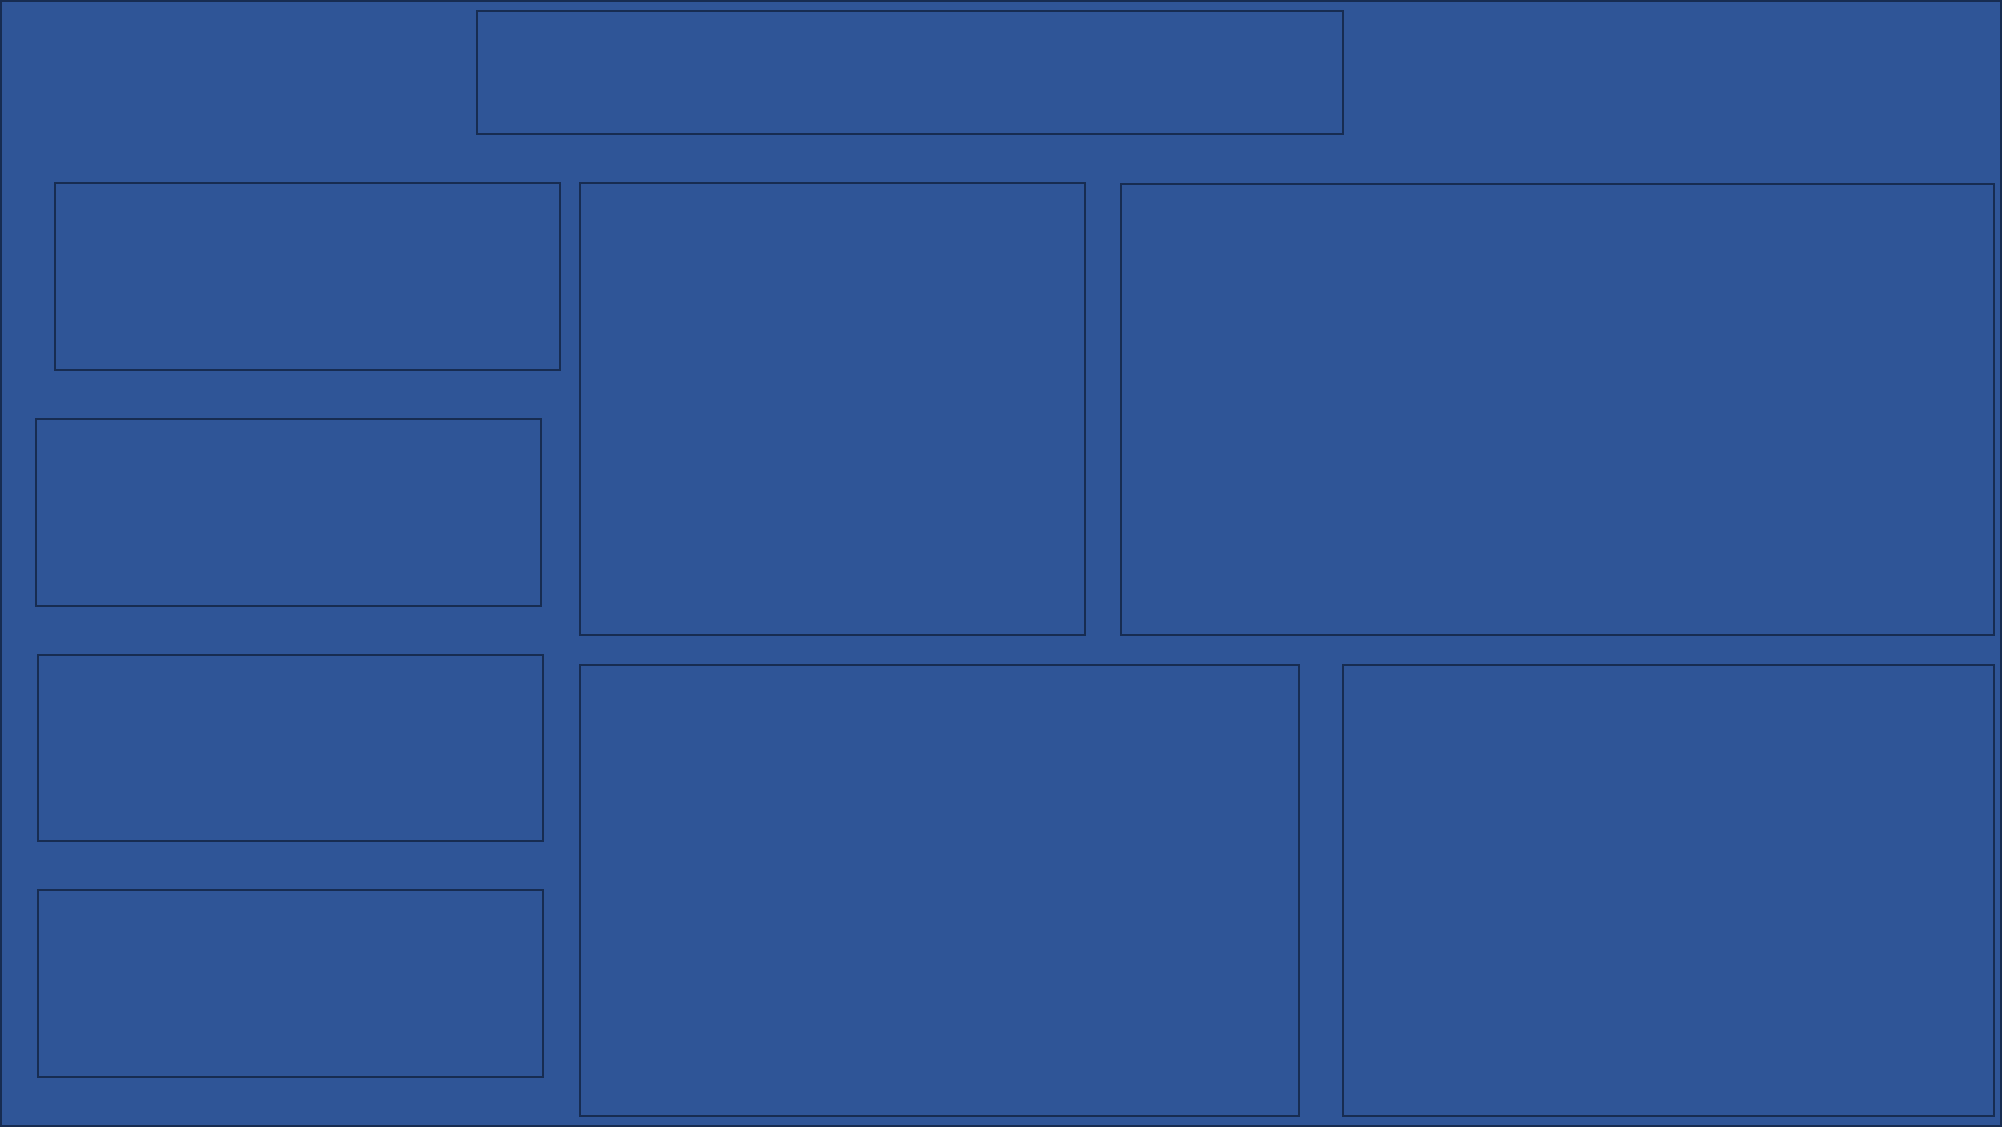

This screenshot's page, from the dashboard's own definition file:
{"tool":"powerbi","page":{"name":"Page 1","canvas":[1280,720],"ordinal":0},"visuals":[{"type":"pieChart","title":"Order Status in Weekday & Weekend","fields":{"Category":["olist_orders_dataset.Weekdays/Weekend"],"Y":["CountNonNull(olist_orders_dataset.order_status)"]},"box":[372.7,117.2,326.3,289.9],"z":0},{"type":"columnChart","title":"Types of Payment in Review score 5","fields":{"Y":["CountNonNull(olist_order_items_dataset.order_id)"],"Series":["olist_order_reviews_dataset.review_score"],"Category":["olist_order_payments_dataset.payment_type"]},"box":[372.7,423.2,457.6,288.9],"z":1000},{"type":"card","title":"Average of shipping Days for Pet_Shop","fields":{"Values":["Avg(olist_orders_dataset.Shipping Days)"]},"box":[23.2,270.7,318.2,116.2],"z":2000},{"type":"clusteredColumnChart","title":"Average of Payment Value & Price Sao Paulo","fields":{"Y":["Avg(olist_order_items_dataset.price)","Avg(olist_order_payments_dataset.payment_value)"],"Category":["olist_customers_dataset.customer_city"]},"box":[860.6,423.2,411.1,288.9],"z":3000},{"type":"scatterChart","title":"Average of Shipping Days VS review_score","fields":{"Y":["Avg(olist_orders_dataset.Shipping Days)"],"X":["olist_order_reviews_dataset.review_score"]},"box":[719.2,117.2,560.6,289.9],"z":4000},{"type":"advancedSlicerVisual","title":"Order Purchase Year","fields":{"Values":["olist_orders_dataset.order_purchase_timestamp.Variation.Date Hierarchy.Year"]},"box":[31.3,117.2,327.3,120.2],"z":5000},{"type":"cardVisual","title":"Total Orders","fields":{"Data":["CountNonNull(olist_orders_dataset.order_status)"]},"box":[31.3,423.2,310.1,107.1],"z":6000},{"type":"cardVisual","title":"No of Orders with review score 5 & Credit Card","fields":{"Data":["CountNonNull(olist_order_items_dataset.order_id)"]},"box":[23.2,567.7,318.2,123.2],"z":7000},{"type":"textbox","box":[425.3,18.2,374.7,55.6],"z":8000}]}

Visuals, with their boxes in screenshot pixels (x1, y1, x2, y2), scaled from the page's 1280x720 canvas onto the 2002x1127 screenshot:
"Order Status in Weekday & Weekend" pieChart: (x1=583, y1=183, x2=1093, y2=637)
"Types of Payment in Review score 5" columnChart: (x1=583, y1=662, x2=1299, y2=1115)
"Average of shipping Days for Pet_Shop" card: (x1=36, y1=424, x2=534, y2=606)
"Average of Payment Value & Price Sao Paulo" clusteredColumnChart: (x1=1346, y1=662, x2=1989, y2=1115)
"Average of Shipping Days VS review_score" scatterChart: (x1=1125, y1=183, x2=2001, y2=637)
"Order Purchase Year" advancedSlicerVisual: (x1=49, y1=183, x2=561, y2=372)
"Total Orders" cardVisual: (x1=49, y1=662, x2=534, y2=830)
"No of Orders with review score 5 & Credit Card" cardVisual: (x1=36, y1=889, x2=534, y2=1081)
textbox: (x1=665, y1=28, x2=1251, y2=116)
